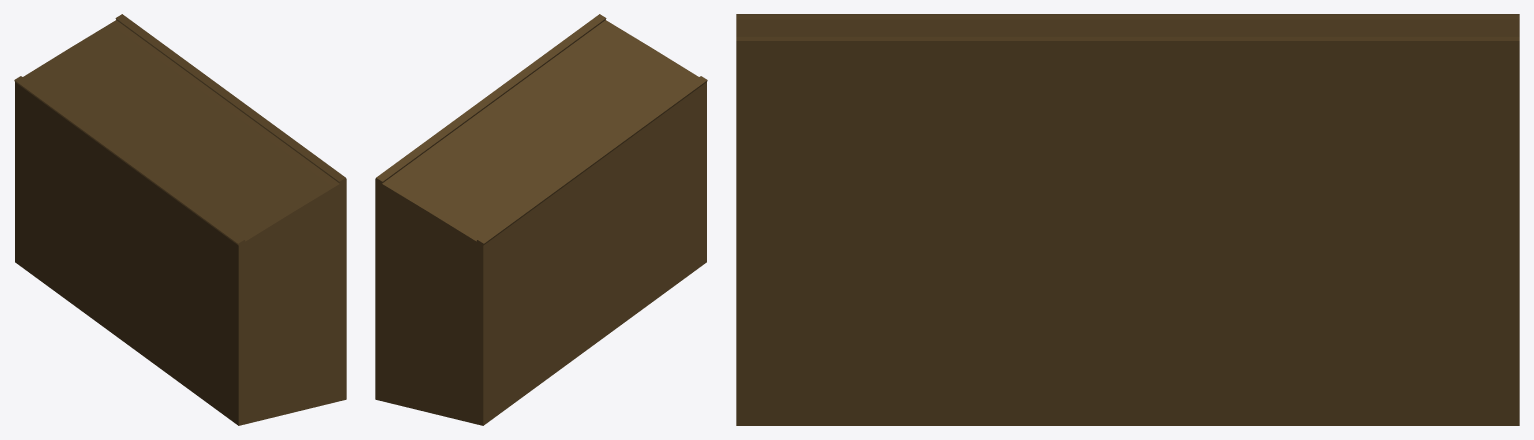
The model's file is Desk.fbx.
3 views of the same model, side by side, from view 1: azimuth 30°, elevation 25°; view 2: azimuth 150°, elevation 25°; view 3: azimuth 270°, elevation 25° (orthographic). The views are drawn at different scales.
Parts seen in each view (by area): view 1: Desk; view 2: Desk; view 3: Desk.
Boxes of the visible parts, left/top/right/bottom form: Desk: left=14, top=14, right=346, bottom=425; Desk: left=375, top=14, right=707, bottom=425; Desk: left=736, top=14, right=1519, bottom=425.
Bounding box in the file's own units: 13.82 × 26.96 × 49.25.
